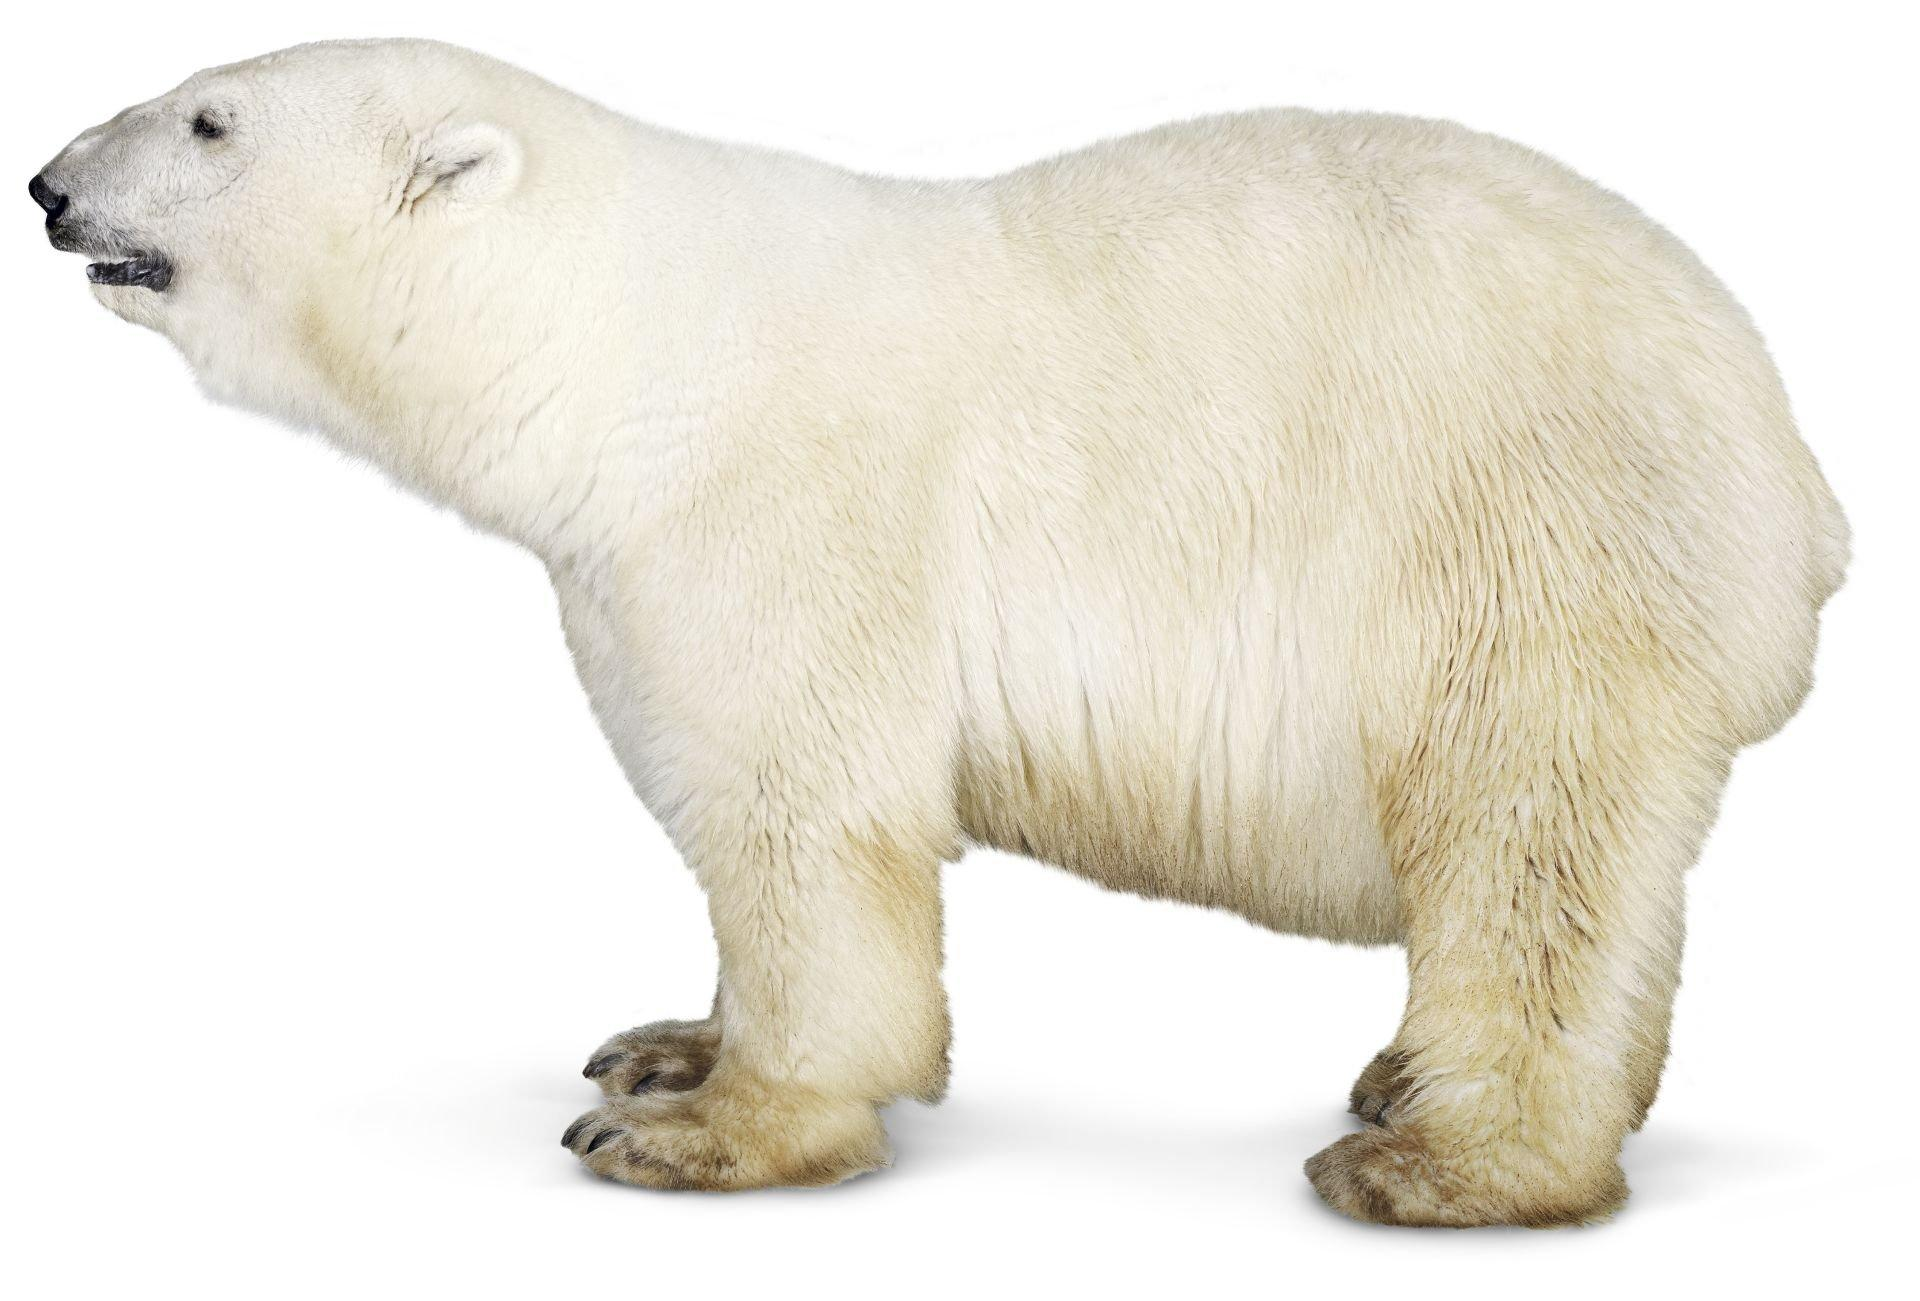bear: (29, 35, 1855, 1236)
